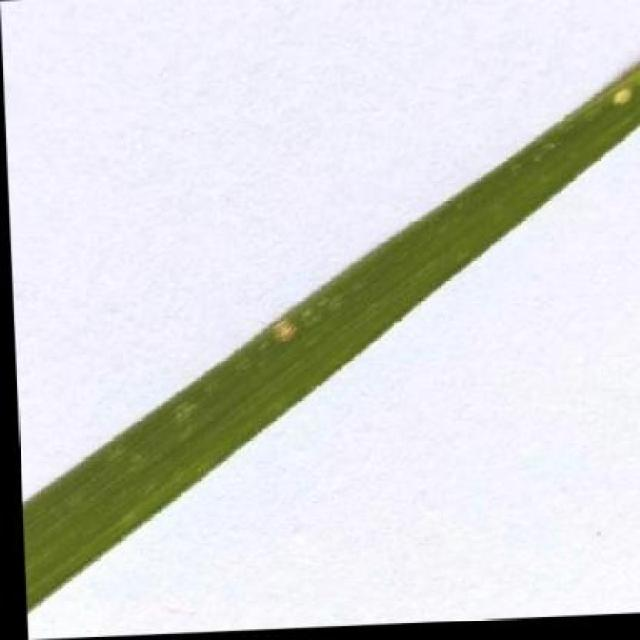Bacterial_Leaf_Blight: (271, 314, 304, 346), (609, 77, 640, 111)
